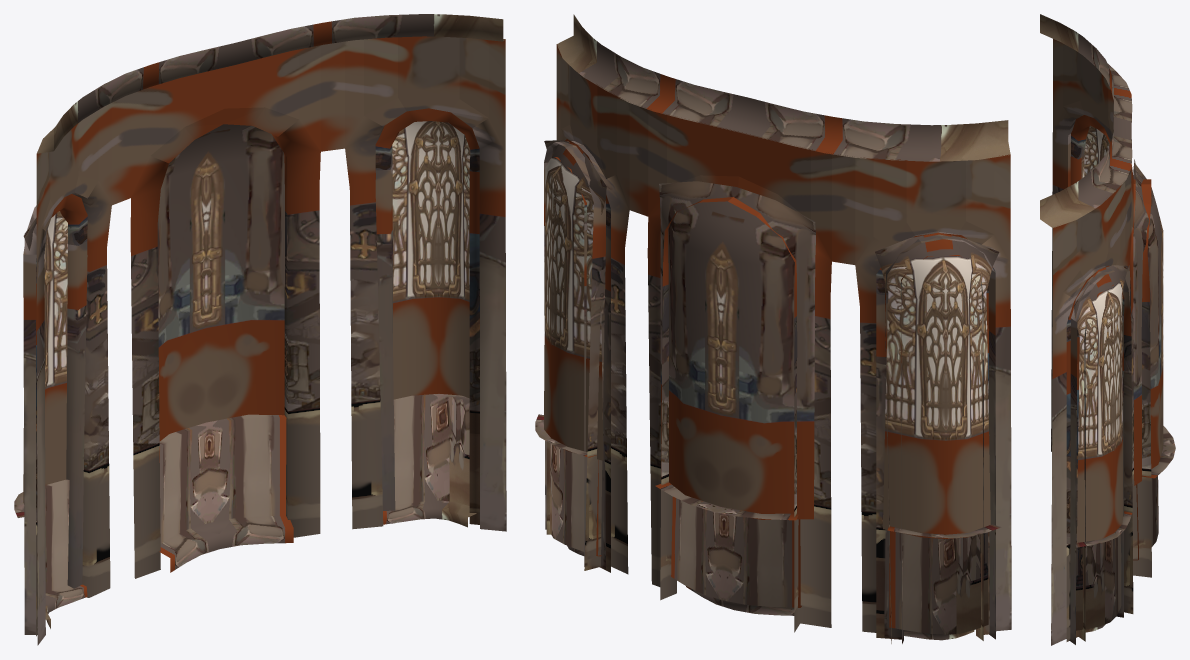
Rendered from Chuang.FBX.
The picture shows the model from 3 angles, left to right: view 1: azimuth 30°, elevation 25°; view 2: azimuth 150°, elevation 25°; view 3: azimuth 270°, elevation 25°; orthographic projection. The views are drawn at different scales.
Parts seen in each view (by area): view 1: 1212; view 2: 1212; view 3: 1212.
Boxes of the visible parts, x1,y1,x2,y2 form: 1212: (14, 14, 506, 645); 1212: (535, 14, 1011, 643); 1212: (1040, 14, 1175, 645).
Bounding box in the file's own units: 20.34 × 21.14 × 5.88.
